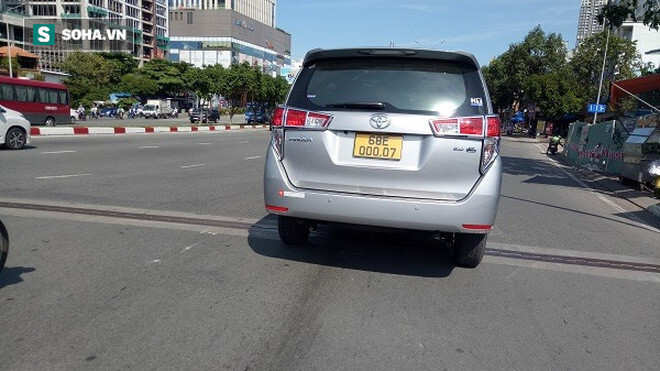number_plate: (353, 131, 403, 160)
